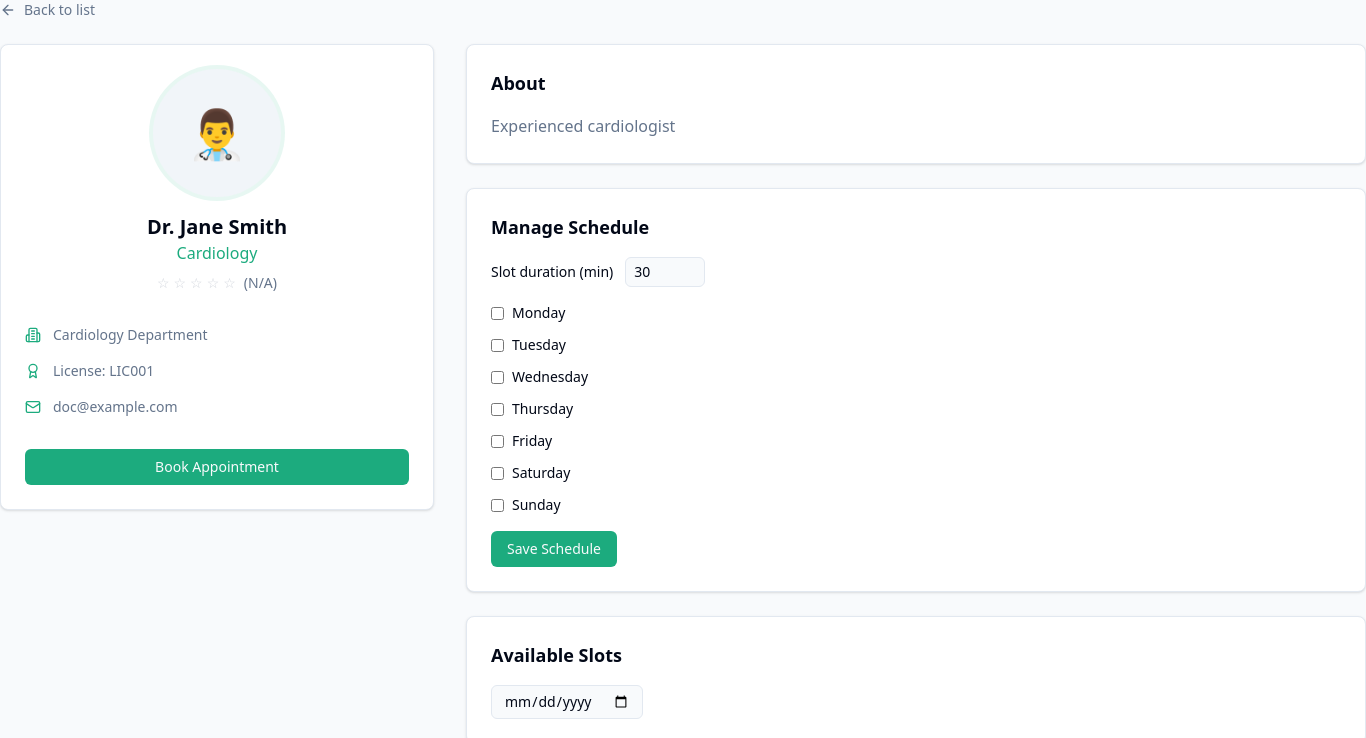
Test: DoctorScheduleForm — behaviour › shows error message when save fails
Click the button with test id "schedule-submit" at x=554, y=549, box [491,531,617,567]
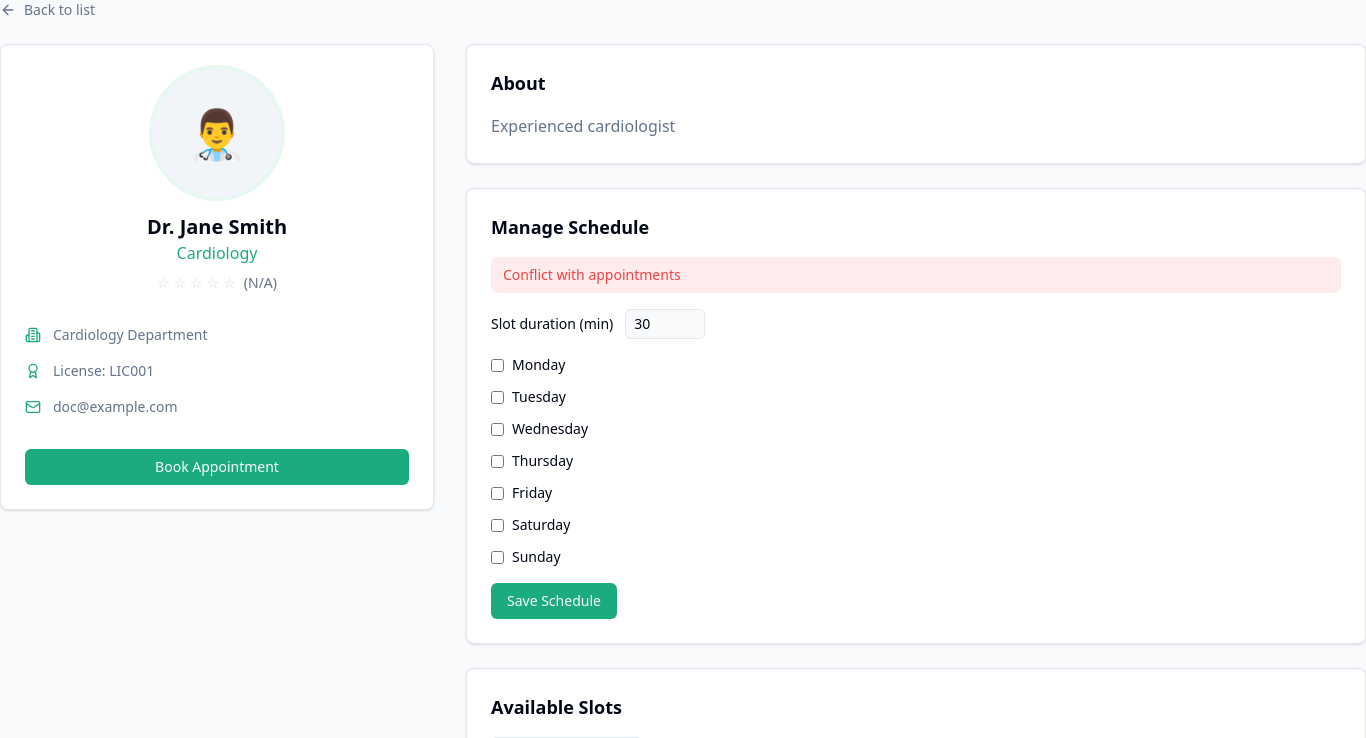
expect the text "Conflict with appointments" is shown: met, box [491,257,1341,293]
expect the text with test id "schedule-error" reads "Conflict with appointments": met, box [503,265,681,284]
